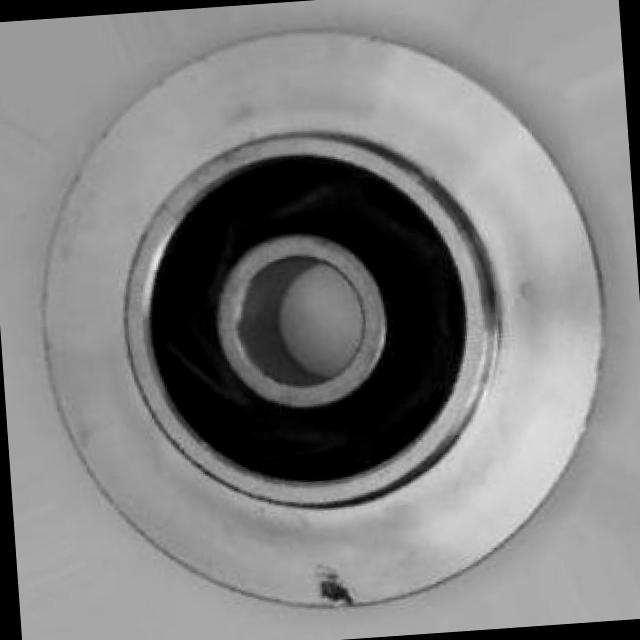Defect: (310, 560, 360, 610)
